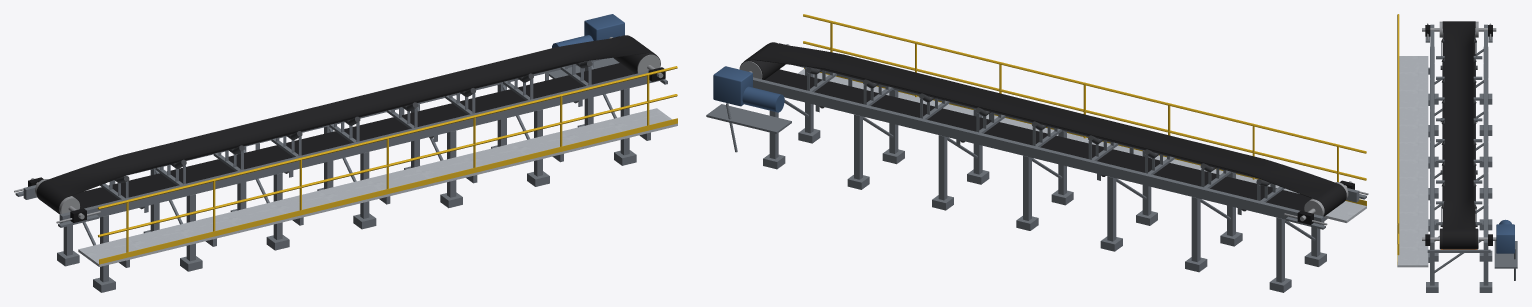
File: oughed-bulk-belt-conveyor-800-mm-with-idlers-and-walkway.glb
3 renders of one model, left to right at view 1: azimuth 30°, elevation 25°; view 2: azimuth 150°, elevation 25°; view 3: azimuth 270°, elevation 25°, orthographic. The views are drawn at different scales.
Visible parts, largest first — view 1: Belt 800 mm, troughed 35 deg on the carrying run - Belt, bla, Stringers and supports - Structure, grey painted steel, Walkway with handrail - Walkway grating, galvanised, Walkway with handrail - Walkway handrails and guards, yellow, 3-roll troughing idlers and return idlers - Structure, grey , Drive: motor and shaft-mounted gearbox - Motors and gearboxe, 3-roll troughing idlers and return idlers - Idler rolls, dar, Head and tail pulleys, take-up and scraper - Pulleys and sha, Walkway with handrail - Structure, grey painted steel, Head and tail pulleys, take-up and scraper - Plastic parts a; view 2: Belt 800 mm, troughed 35 deg on the carrying run - Belt, bla, Stringers and supports - Structure, grey painted steel, Walkway with handrail - Walkway handrails and guards, yellow, 3-roll troughing idlers and return idlers - Structure, grey , Walkway with handrail - Walkway grating, galvanised, Drive: motor and shaft-mounted gearbox - Motors and gearboxe, Drive: motor and shaft-mounted gearbox - Structure, grey pai, 3-roll troughing idlers and return idlers - Idler rolls, dar, Head and tail pulleys, take-up and scraper - Pulleys and sha; view 3: Belt 800 mm, troughed 35 deg on the carrying run - Belt, bla, Walkway with handrail - Walkway grating, galvanised, Stringers and supports - Structure, grey painted steel, 3-roll troughing idlers and return idlers - Structure, grey , Walkway with handrail - Walkway handrails and guards, yellow, Drive: motor and shaft-mounted gearbox - Motors and gearboxe, Drive: motor and shaft-mounted gearbox - Structure, grey pai, Head and tail pulleys, take-up and scraper - Pulleys and sha, 3-roll troughing idlers and return idlers - Idler rolls, dar, Head and tail pulleys, take-up and scraper - Structure, grey, Head and tail pulleys, take-up and scraper - Plastic parts a, Head and tail pulleys, take-up and scraper - Pulley lagging, (+1 smaller).
Part boxes in pixels (x1,y1,x2,y2): Belt 800 mm, troughed 35 deg on the carrying run - Belt, bla: (36, 36, 656, 214); Stringers and supports - Structure, grey painted steel: (23, 58, 665, 292); Walkway with handrail - Walkway grating, galvanised: (78, 108, 677, 266); Walkway with handrail - Walkway handrails and guards, yellow: (98, 66, 677, 264); 3-roll troughing idlers and return idlers - Structure, grey : (100, 64, 591, 212); Drive: motor and shaft-mounted gearbox - Motors and gearboxe: (552, 14, 624, 47); 3-roll troughing idlers and return idlers - Idler rolls, dar: (114, 61, 592, 209); Head and tail pulleys, take-up and scraper - Pulleys and sha: (14, 37, 663, 223); Walkway with handrail - Structure, grey painted steel: (119, 132, 650, 267); Head and tail pulleys, take-up and scraper - Plastic parts a: (28, 36, 665, 222); Belt 800 mm, troughed 35 deg on the carrying run - Belt, bla: (744, 43, 1346, 216); Stringers and supports - Structure, grey painted steel: (753, 65, 1359, 292); Walkway with handrail - Walkway handrails and guards, yellow: (803, 14, 1366, 205); 3-roll troughing idlers and return idlers - Structure, grey : (807, 70, 1284, 214); Walkway with handrail - Walkway grating, galvanised: (798, 69, 1366, 222); Drive: motor and shaft-mounted gearbox - Motors and gearboxe: (713, 66, 784, 112); Drive: motor and shaft-mounted gearbox - Structure, grey pai: (706, 103, 791, 152); 3-roll troughing idlers and return idlers - Idler rolls, dar: (806, 67, 1270, 211); Head and tail pulleys, take-up and scraper - Pulleys and sha: (739, 44, 1368, 225); Belt 800 mm, troughed 35 deg on the carrying run - Belt, bla: (1442, 21, 1475, 249); Walkway with handrail - Walkway grating, galvanised: (1397, 56, 1428, 267); Stringers and supports - Structure, grey painted steel: (1426, 24, 1492, 292); 3-roll troughing idlers and return idlers - Structure, grey : (1434, 42, 1483, 227); Walkway with handrail - Walkway handrails and guards, yellow: (1397, 14, 1399, 264); Drive: motor and shaft-mounted gearbox - Motors and gearboxe: (1496, 219, 1514, 253); Drive: motor and shaft-mounted gearbox - Structure, grey pai: (1494, 241, 1517, 280); Head and tail pulleys, take-up and scraper - Pulleys and sha: (1422, 21, 1496, 248); 3-roll troughing idlers and return idlers - Idler rolls, dar: (1440, 38, 1477, 226); Head and tail pulleys, take-up and scraper - Structure, grey: (1425, 36, 1492, 252); Head and tail pulleys, take-up and scraper - Plastic parts a: (1425, 25, 1492, 245); Head and tail pulleys, take-up and scraper - Pulley lagging,: (1440, 228, 1477, 249).
Size of the model in its own units: 12.85 by 2.07 by 2.92.
Materials: 10 (10 with a texture image).
